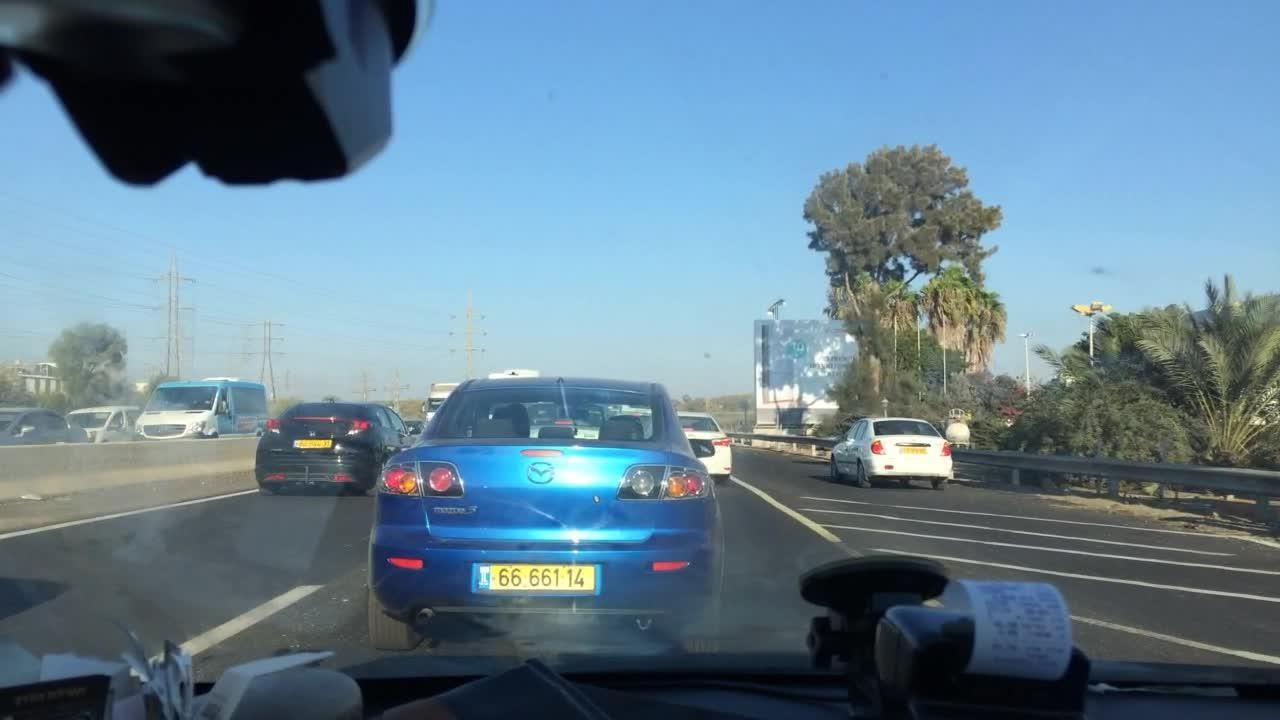Honda: (308, 428, 318, 439)
Mazda: (520, 459, 561, 492)
